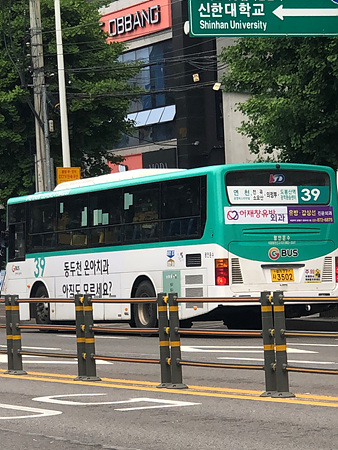bnum: (297, 186, 323, 203)
